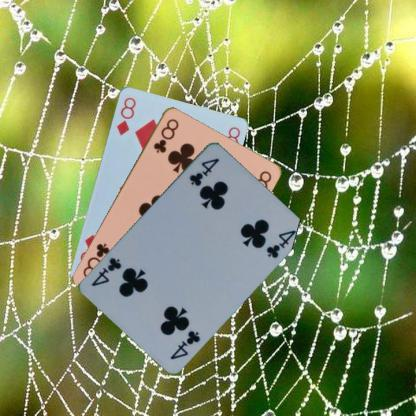4c: (167, 327, 203, 360), (186, 155, 221, 187)
8c: (150, 116, 180, 154)
8d: (113, 95, 137, 136)
